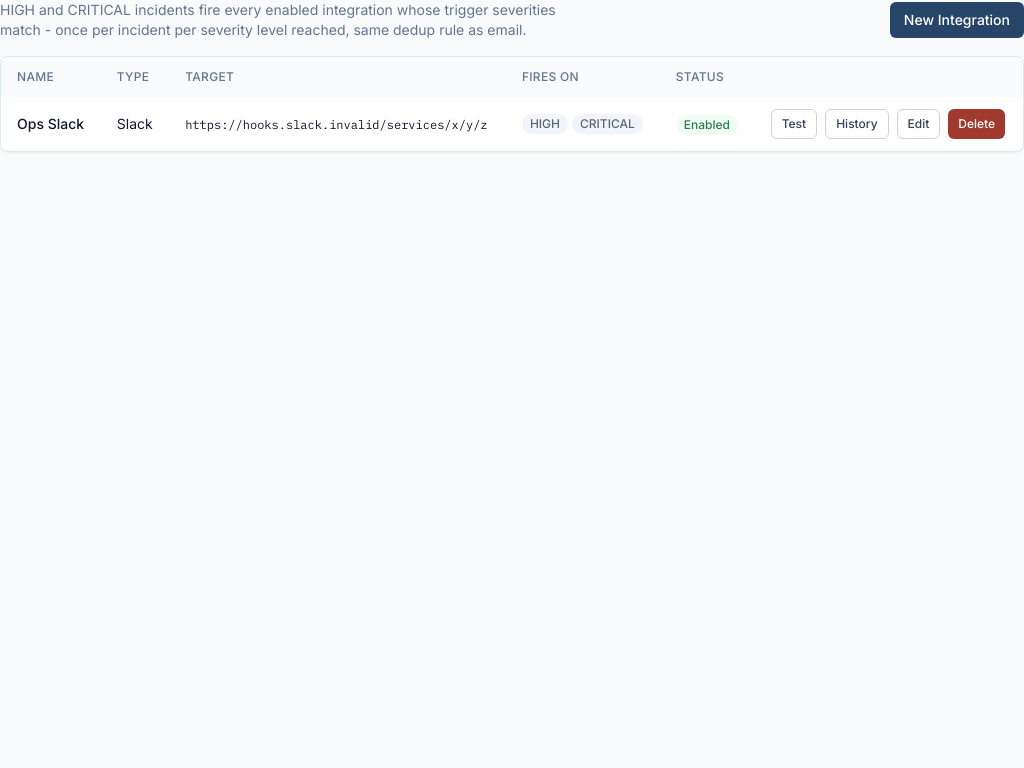
Test case: IntegrationsPanel › opens delivery history for an integration
The image size is (1024, 768).
Expected: the text "Ops Slack" is shown, [17,115,84,132]
Click the button "History": {"x": 857, "y": 124} [825,109,889,139]
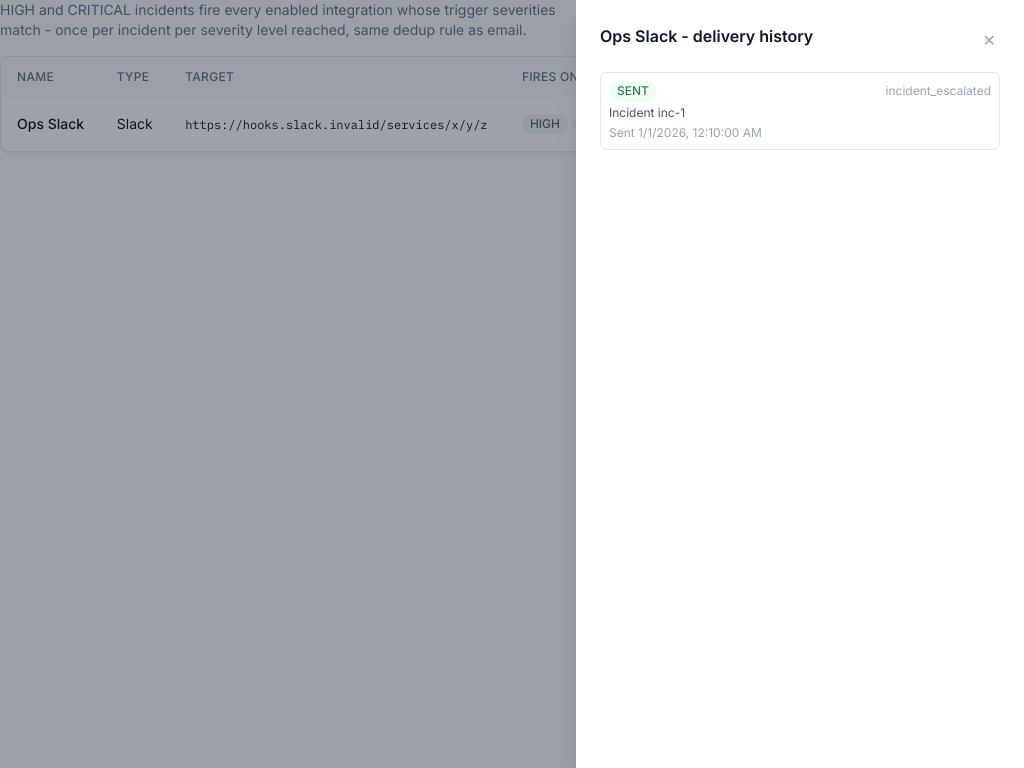
Expected: the text "SENT" is shown, [609,81,657,101]
Expected: the text "incident_escalated" is shown, [886,83,991,99]
